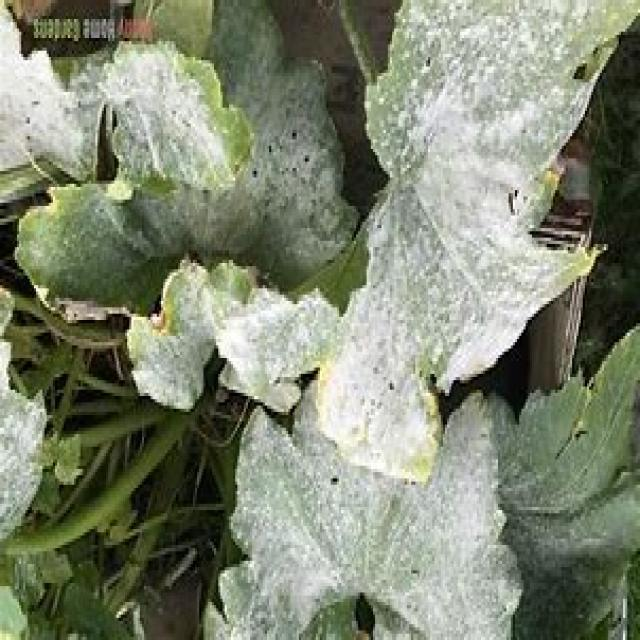Leaf_Mold: (332, 22, 604, 408), (151, 429, 513, 640), (141, 216, 368, 470), (0, 264, 66, 578)
